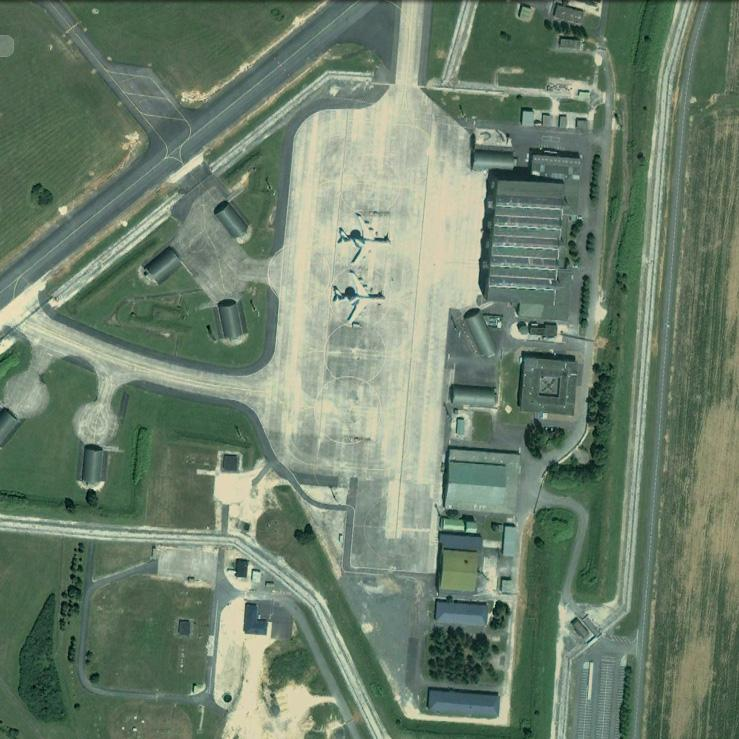A7: (331, 270, 386, 323), (337, 212, 391, 265)
